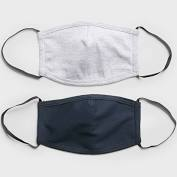cloth_mask: (1, 20, 177, 87), (1, 93, 177, 156)
